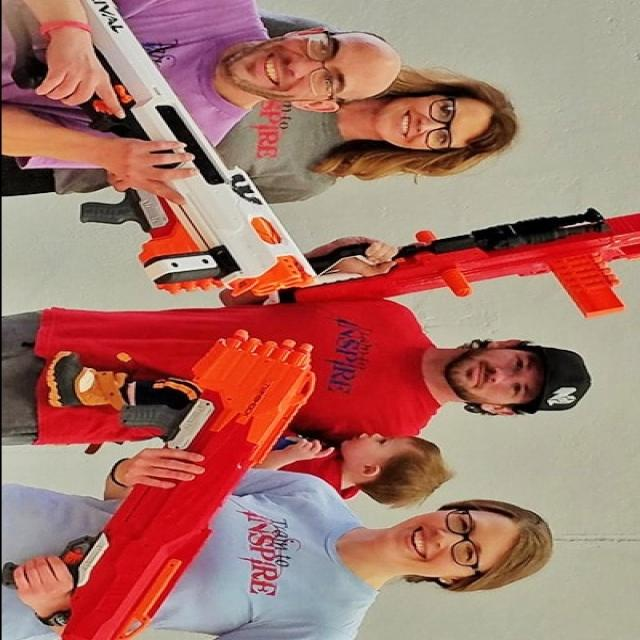Nerf gun: (5, 326, 318, 640), (2, 2, 318, 301), (269, 205, 640, 328)
